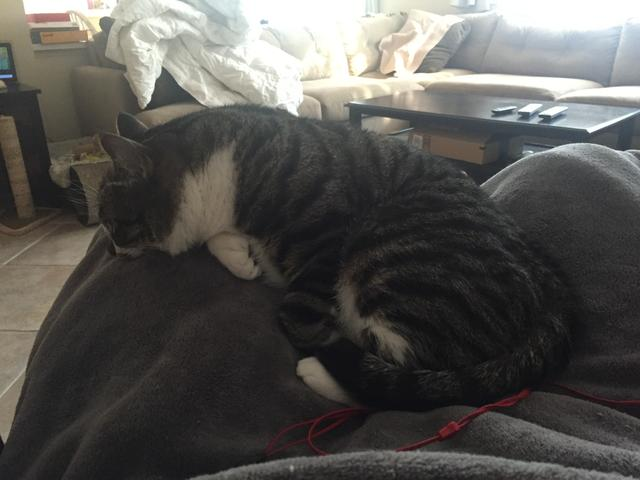playdoh: (92, 114, 581, 410)
